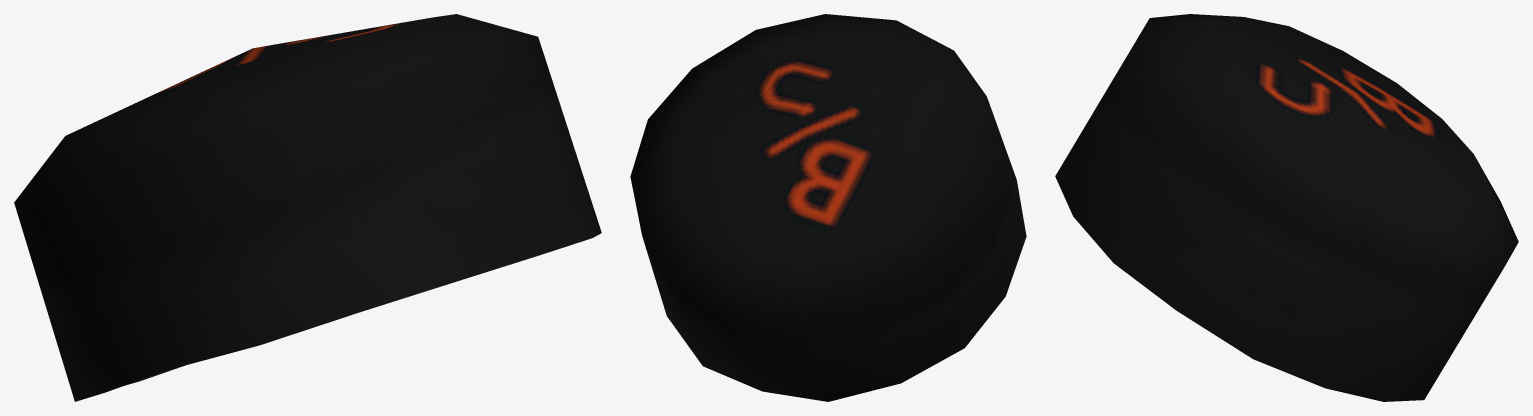
The model's file is YVR_d1_right_Bbutton.obj.
3 renders of one model, left to right at view 1: azimuth 30°, elevation 25°; view 2: azimuth 150°, elevation 25°; view 3: azimuth 270°, elevation 25°, orthographic. The views are drawn at different scales.
Visible parts, largest first — view 1: Object012; view 2: Object012; view 3: Object012.
Part boxes in pixels (x1,y1,x2,y2): Object012: [14, 14, 601, 401]; Object012: [630, 14, 1026, 401]; Object012: [1055, 14, 1518, 401].
Size of the model in its own units: 0.01 by 0.0081 by 0.0103.
1 material, 1 textured.
